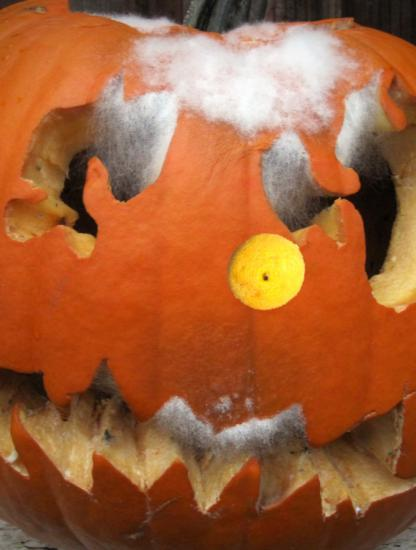Cantaloupe: (226, 231, 308, 313)
